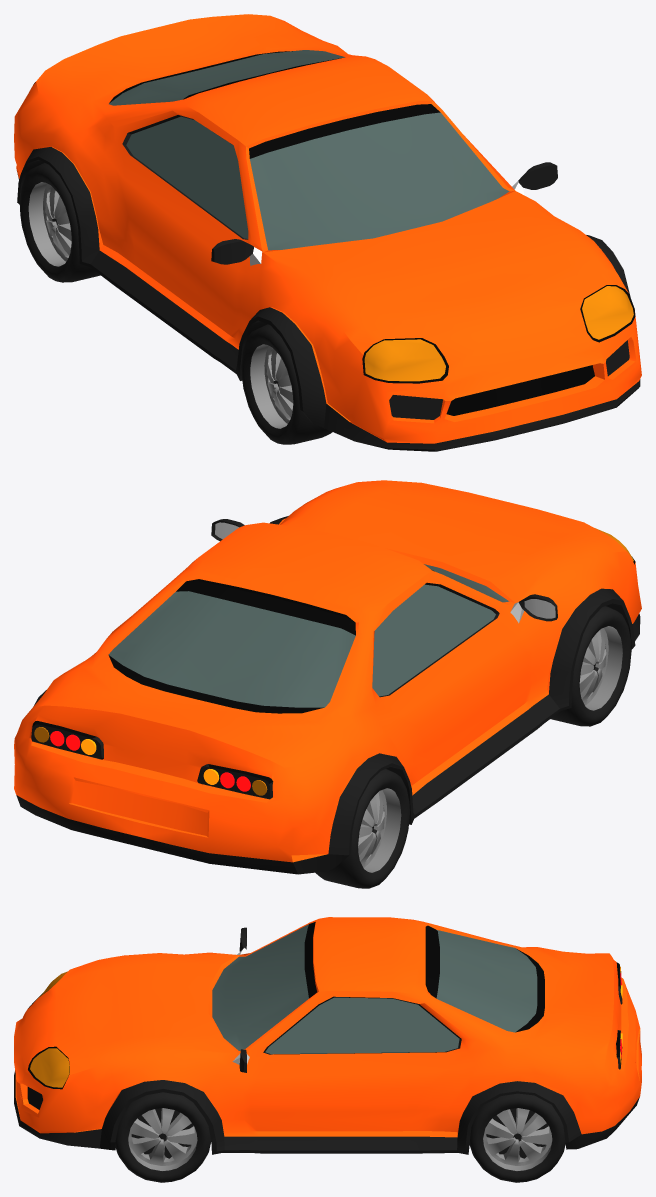
Rendered from supra.fbx.
3 views of the same model, one above another, from view 1: azimuth 30°, elevation 25°; view 2: azimuth 150°, elevation 25°; view 3: azimuth 270°, elevation 25° (orthographic). The views are drawn at different scales.
Parts seen in each view (by area): view 1: supra, race1.005, race1.006; view 2: supra, race1.006, race1.005; view 3: supra, race1.007, race1.008.
Part boxes in pixels (x1,y1,x2,y2): supra: (14,14,641,451); race1.005: (241,324,332,444); race1.006: (19,163,100,282); supra: (14,480,641,874); race1.006: (315,769,409,888); race1.005: (551,606,631,726); supra: (14,917,641,1154); race1.007: (469,1093,565,1182); race1.008: (115,1092,211,1182).
Size of the model in its own units: 803 by 486 by 1578.
